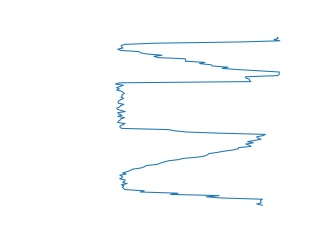distributaryChannelFill: (111, 72, 269, 143)
mouthBar: (112, 34, 286, 76)
underwaterDistributaryChannel: (114, 137, 266, 209)
